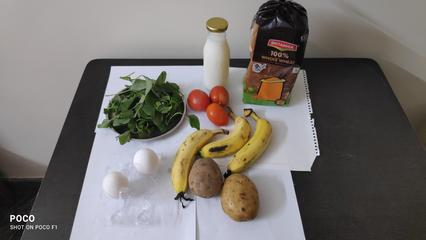banana: (221, 116, 274, 173), (173, 131, 198, 196)
bread: (249, 4, 301, 113)
milk: (202, 11, 237, 84)
potato: (222, 169, 263, 221), (194, 154, 219, 200)
spinach: (118, 83, 167, 126)
tomato: (185, 86, 233, 121)
